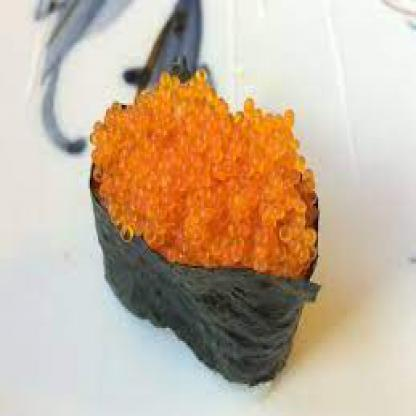tobiko: (81, 58, 326, 391)
